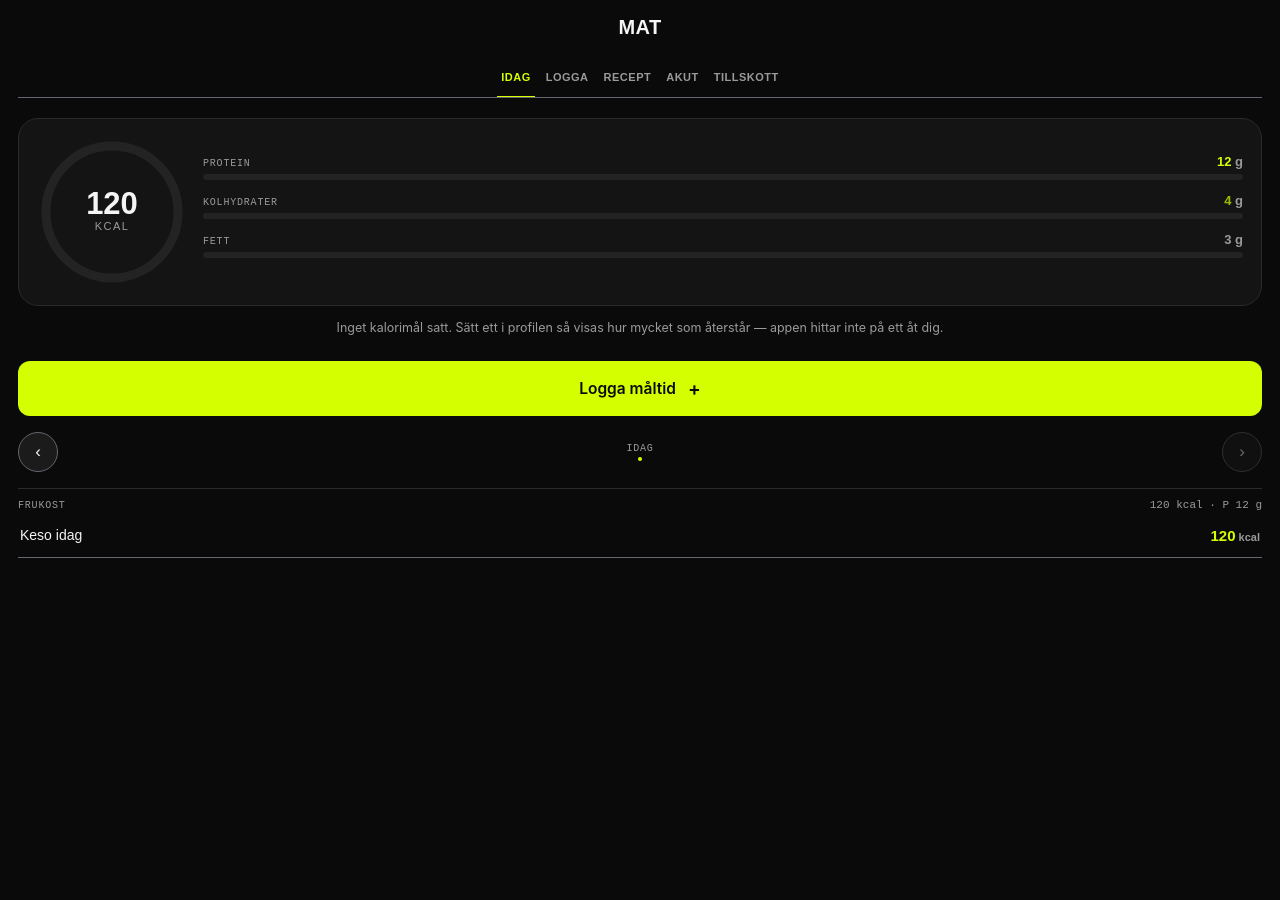
Test: matvyn: dagsväljare och flytt › flytta-fälten finns i redigeringen och kan inte peka framåt
This screenshot has width=1280, height=900.
What coordinates should you click on to do the following:
click the button "Keso idag 120 kcal"
I would click on:
 (51, 535)
Its box is [18,513,1262,557].
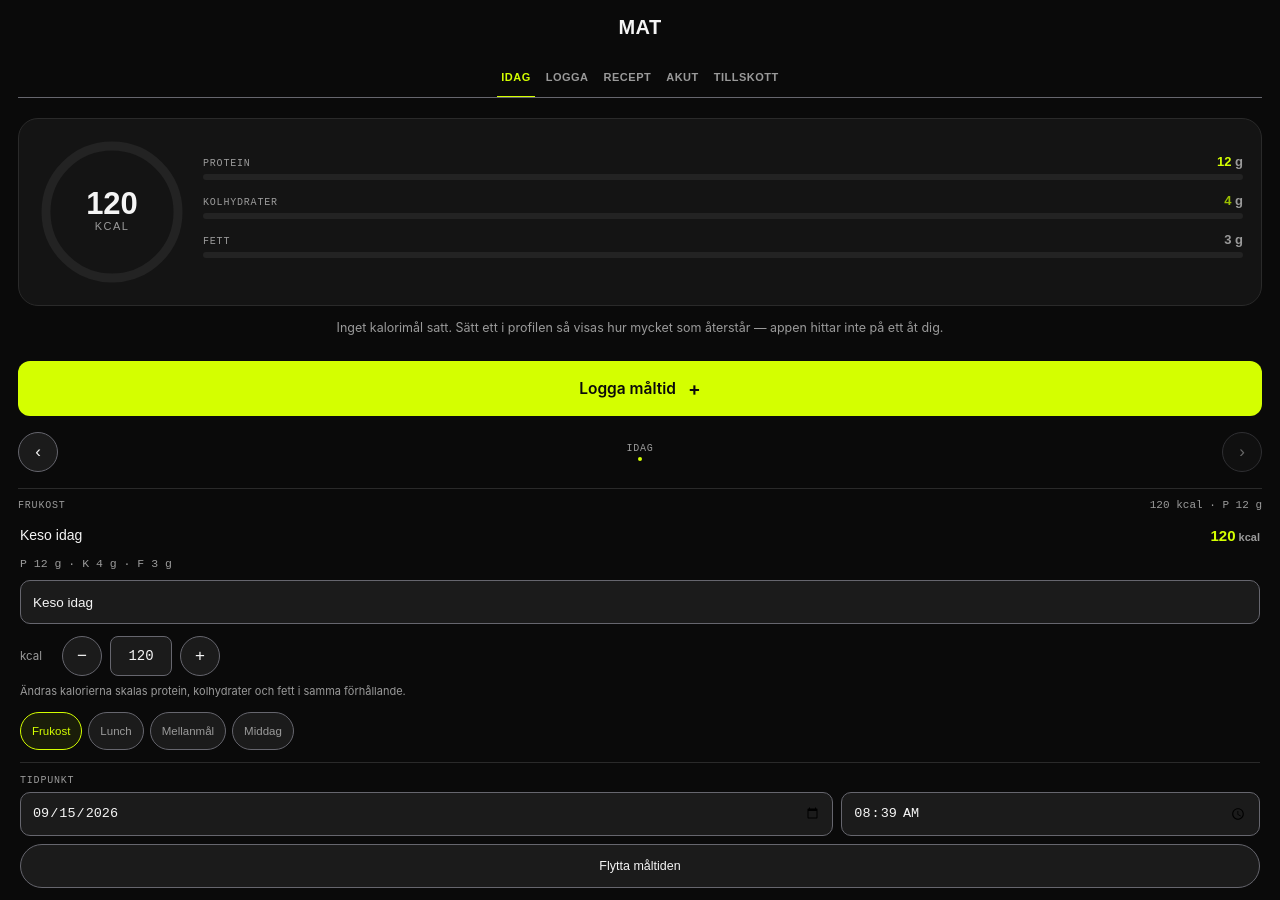
Now the date field named "Datum" is shown, box [20,792,833,836]
Now the time field named "Tid" is shown, box [841,792,1260,836]
